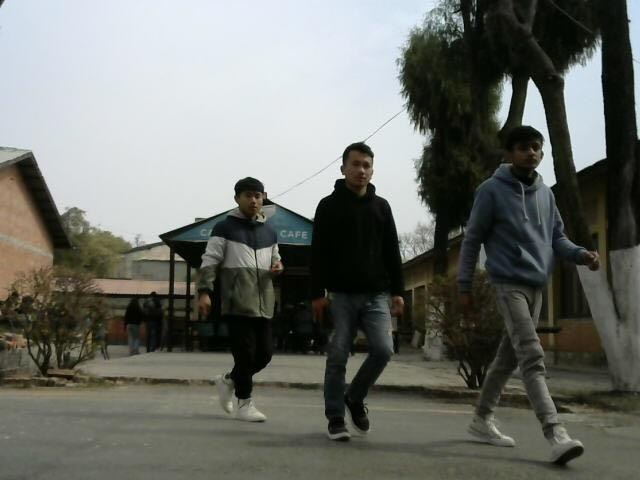Building: (0, 134, 90, 269)
Person: (459, 117, 601, 470), (312, 143, 410, 446), (196, 173, 289, 430)
Road: (7, 384, 636, 480)
Tree: (391, 24, 501, 214)
